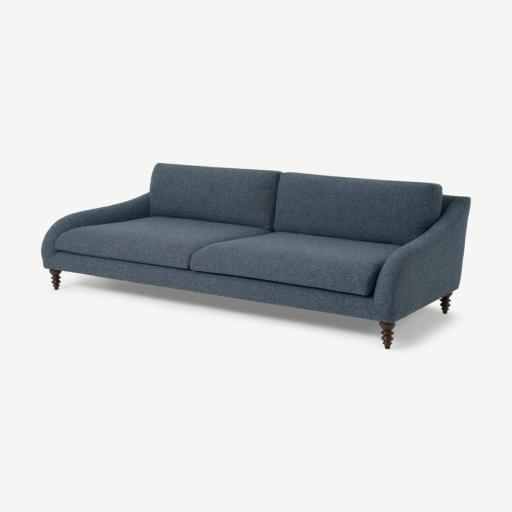back_cushion: (149, 164, 442, 244)
base: (50, 253, 381, 321)
left_arm: (374, 196, 470, 322)
legs: (380, 322, 395, 349), (50, 269, 61, 290), (442, 294, 451, 313)
right_arm: (42, 193, 148, 267)
seat_cushion: (57, 217, 398, 296)
two-seater: (0, 0, 511, 512)
